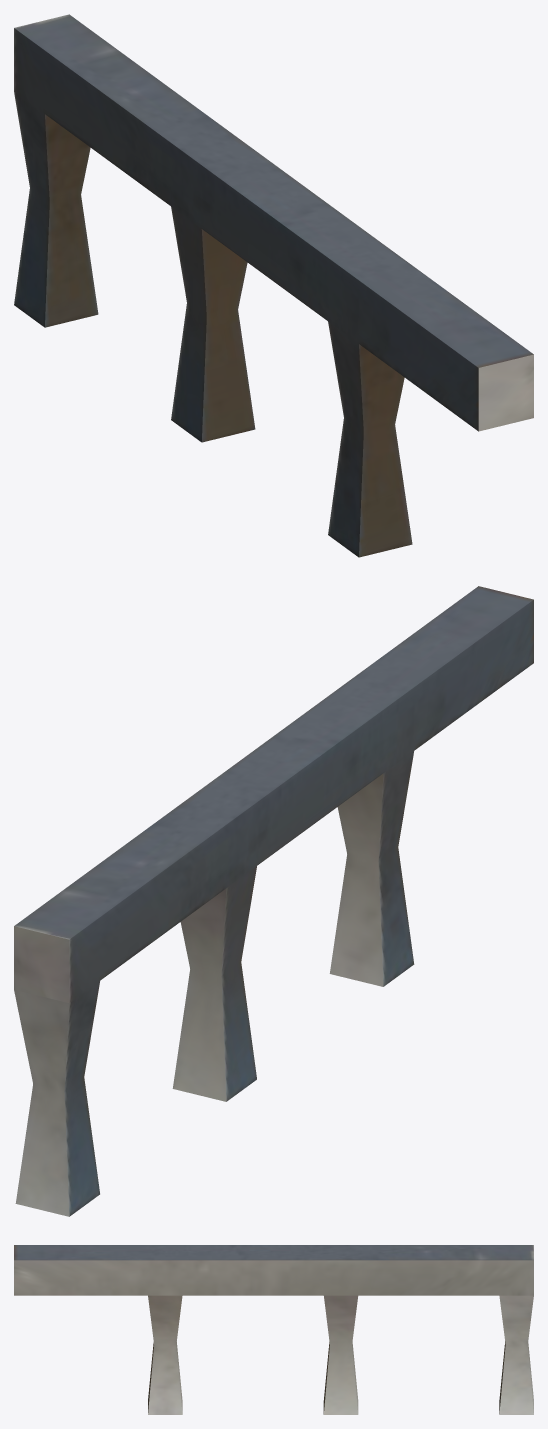
3 views of the same model, one above another, from view 1: azimuth 30°, elevation 25°; view 2: azimuth 150°, elevation 25°; view 3: azimuth 270°, elevation 25° (orthographic). The views are drawn at different scales.
Visible parts, largest first — view 1: Railing Module; view 2: Railing Module; view 3: Railing Module.
Part boxes in pixels (<box>): Railing Module: <box>14,14,533,557</box>; Railing Module: <box>14,586,533,1216</box>; Railing Module: <box>14,1245,533,1414</box>.
Size of what is drawn, in the model's own units: 0.1548 by 0.7407 by 2.25.
1 material, 1 textured.
